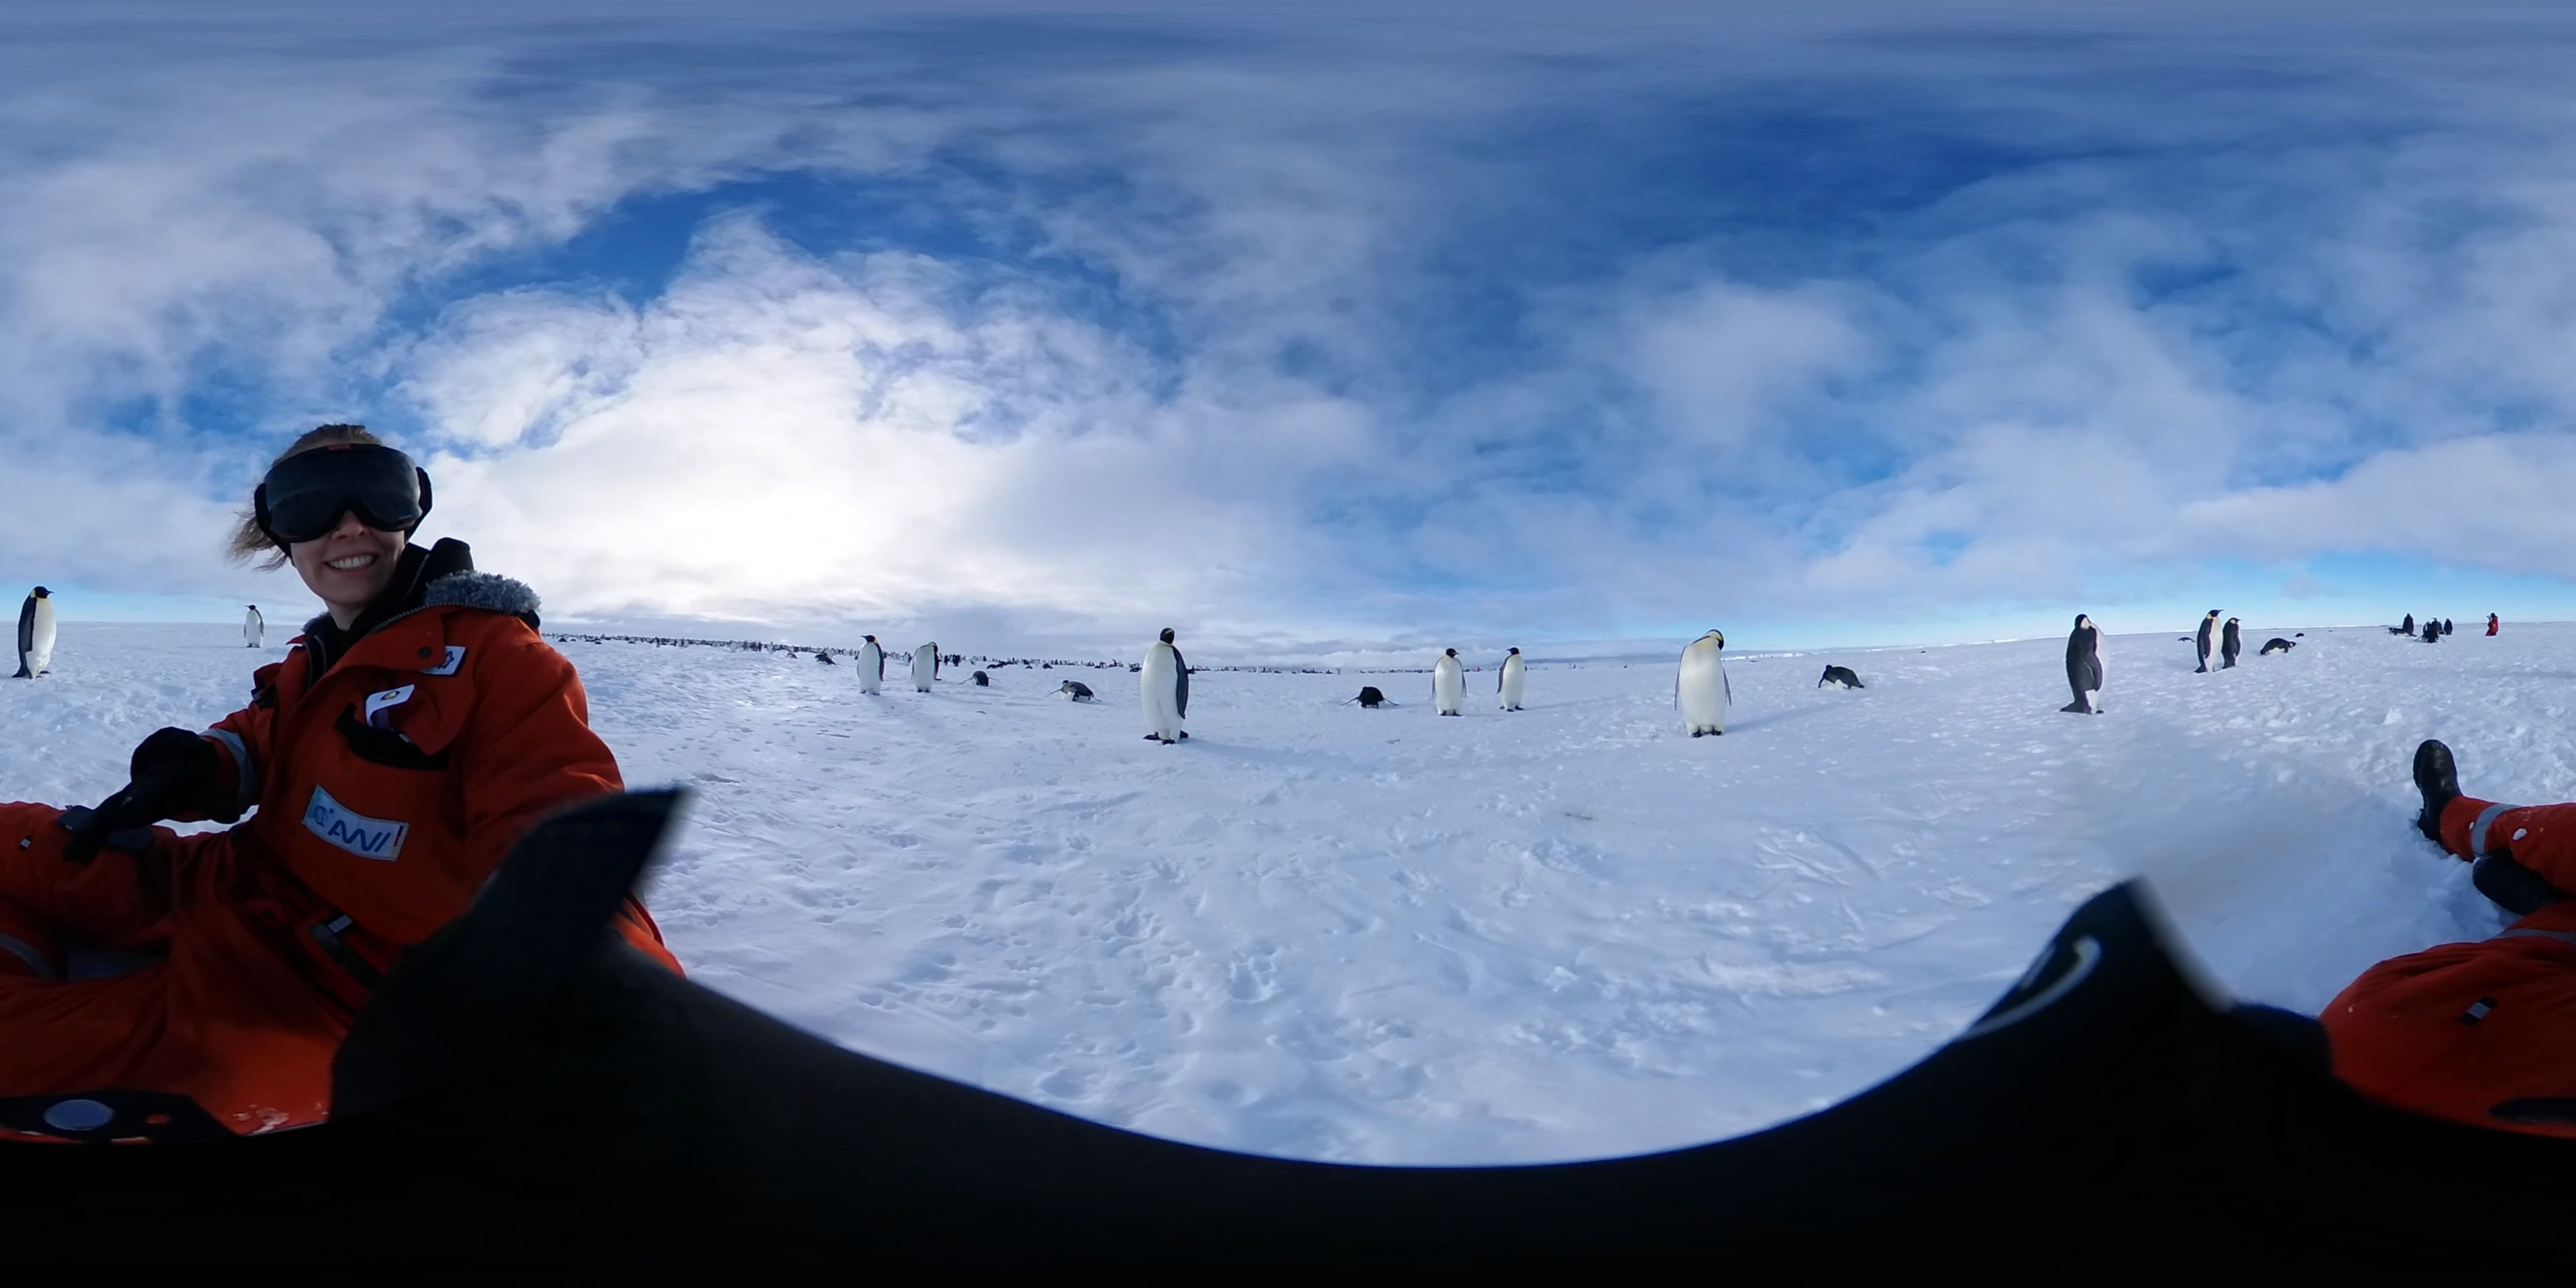adult_standing_penguin: (1671, 624, 1738, 736), (1138, 624, 1194, 747), (5, 585, 66, 683), (2062, 611, 2113, 718), (1431, 647, 1472, 718), (2193, 608, 2228, 680), (1495, 646, 1529, 713), (853, 631, 887, 695), (912, 641, 943, 695), (237, 603, 269, 649), (2219, 616, 2242, 670), (2399, 611, 2417, 637)
adult_toboggan_penguin: (1814, 660, 1868, 693), (1339, 685, 1398, 711), (1046, 678, 1101, 706), (2257, 637, 2297, 660), (961, 670, 1004, 687), (2387, 624, 2417, 639)
researcher: (13, 414, 688, 1216), (2484, 609, 2499, 637)
